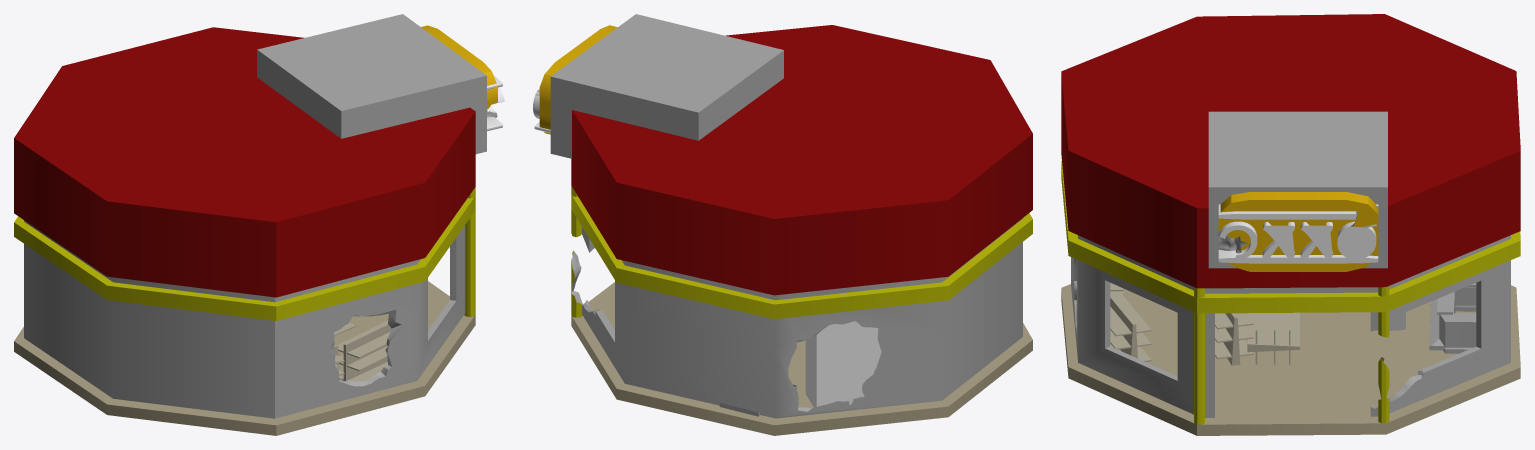
The model's file is oxxo1.fbx.
3 views of the same model, side by side, from view 1: azimuth 30°, elevation 25°; view 2: azimuth 150°, elevation 25°; view 3: azimuth 270°, elevation 25° (orthographic). The views are drawn at different scales.
Visible parts, largest first — view 1: polySurface20; view 2: polySurface20; view 3: polySurface20.
Part boxes in pixels (x1,y1,x2,y2): polySurface20: [14, 14, 504, 435]; polySurface20: [533, 14, 1032, 435]; polySurface20: [1061, 14, 1520, 435].
Bounding box in the file's own units: 2.05 × 1.14 × 1.85.
